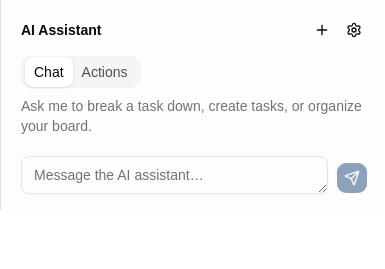
Test: AIChatSidebar › shows a failed turn as a red chat bubble, not a separate banner
Type "hello" into the text box with placeholder "Message the AI assistant…" at point(174, 175), box [21,156,328,194]
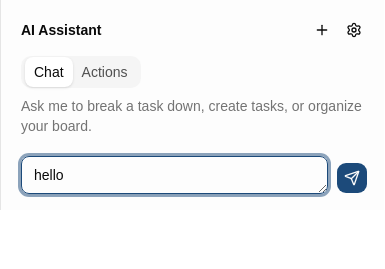
Click the button named "Send message" at point(352, 178), box [336,162,368,194]
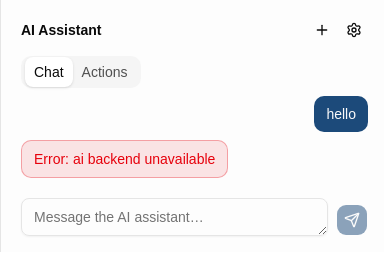
Expected: the text "Error: ai backend unavailable" is shown, [21,140,228,178]
Expected: the text "hello" is shown, [314,96,368,132]
Type "another try" into the text box with placeholder "Message the AI assistant…" at point(174, 217), box [21,198,328,236]
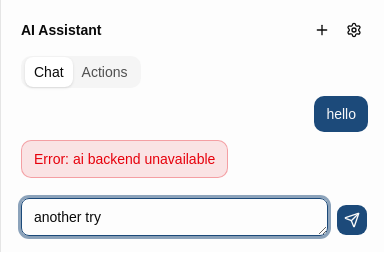
Expected: the button named "Send message" is enabled, [336,204,368,236]
